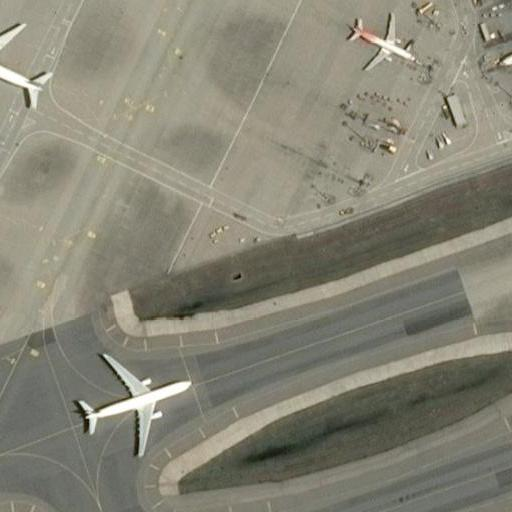Aircraft: (62, 339, 195, 460), (68, 348, 193, 458), (337, 0, 421, 75), (0, 11, 54, 121), (0, 14, 52, 122), (340, 6, 420, 72), (492, 0, 512, 92), (496, 0, 512, 92)
